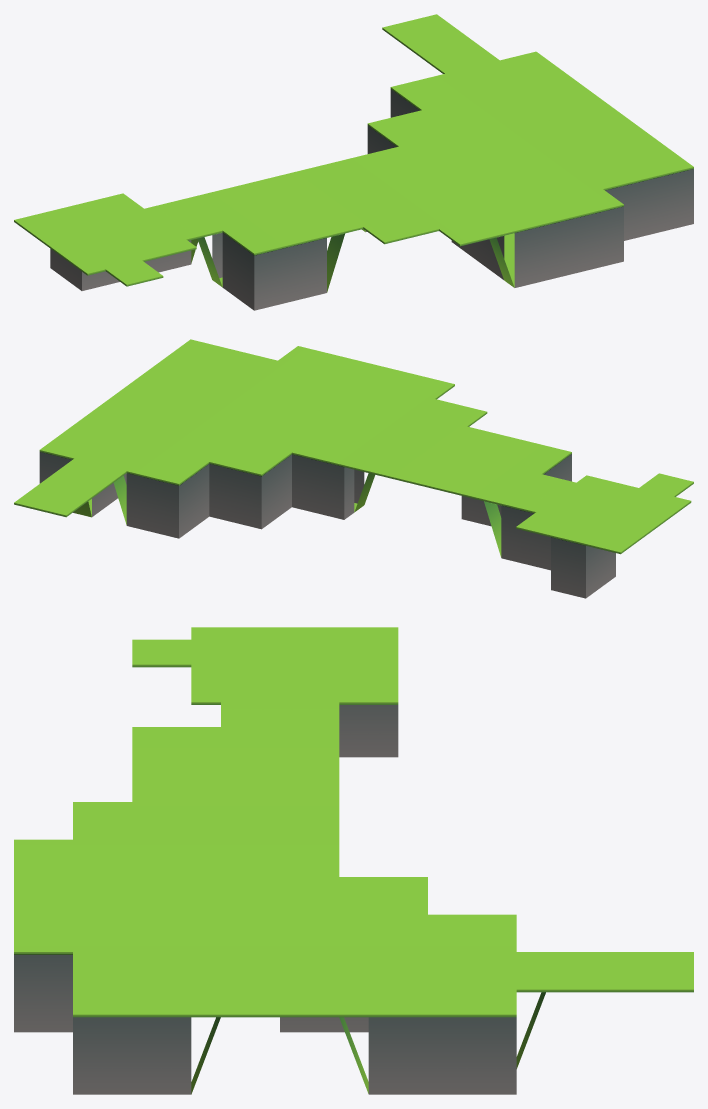
File: SM_Env_Reflection_Three.fbx
3 renders of one model, top to bottom at view 1: azimuth 30°, elevation 25°; view 2: azimuth 150°, elevation 25°; view 3: azimuth 270°, elevation 25°, orthographic. The views are drawn at different scales.
Parts seen in each view (by area): view 1: Cube.010, Cube.011; view 2: Cube.010, Cube.011; view 3: Cube.010, Cube.011.
Part boxes in pixels (x1=…): Cube.010: x1=14, y1=14, x2=693, y2=286; Cube.011: x1=50, y1=89, x2=693, y2=310; Cube.010: x1=14, y1=339, x2=693, y2=554; Cube.011: x1=39, y1=452, x2=615, y2=598; Cube.010: x1=14, y1=627, x2=693, y2=1017; Cube.011: x1=14, y1=705, x2=545, y2=1094.
Bounding box in the file's own units: 3100 × 299 × 2300.
Materials: 1 (1 with a texture image).
